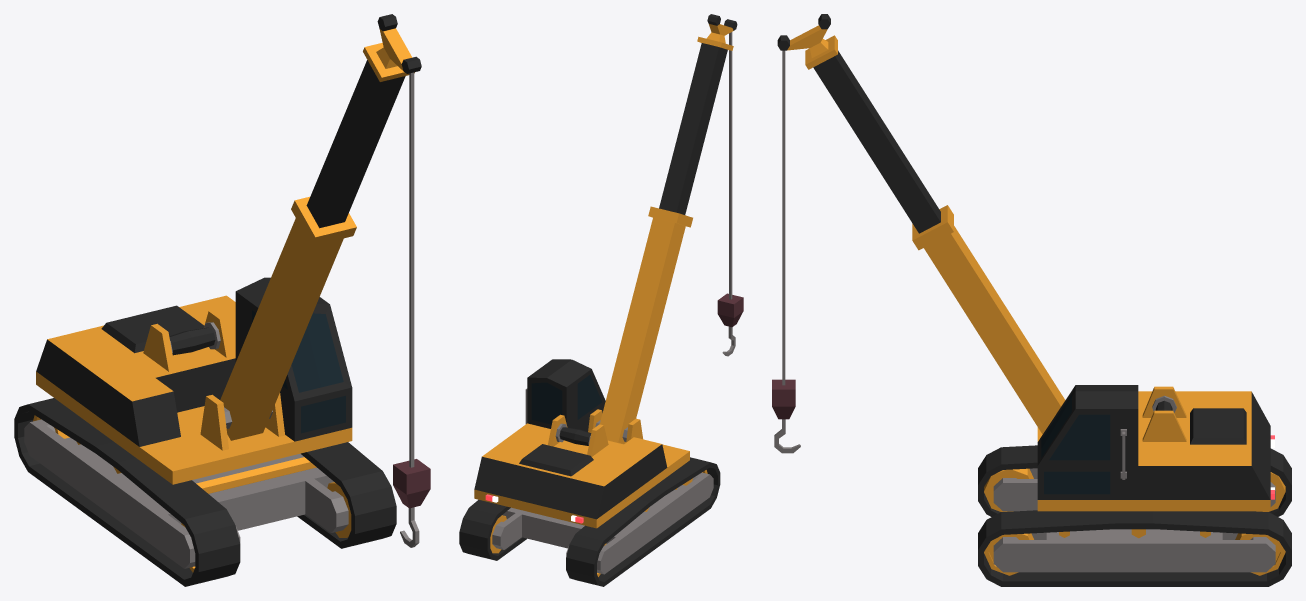
The model's file is crane-crawler.glb.
3 renders of one model, left to right at view 1: azimuth 30°, elevation 25°; view 2: azimuth 150°, elevation 25°; view 3: azimuth 270°, elevation 25°, orthographic. The views are drawn at different scales.
Visible parts, largest first — view 1: crane-crawler-base, crane-crawler-arm, crane-crawler-belt, crane-crawler-chassis, crane-crawler-hook, crane-crawler-wheel_TF; view 2: crane-crawler-base, crane-crawler-arm, crane-crawler-belt, crane-crawler-chassis, crane-crawler-hook; view 3: crane-crawler-base, crane-crawler-arm, crane-crawler-belt, crane-crawler-chassis, crane-crawler-hook, crane-crawler-wheel_F, crane-crawler-wheel_B.
Boxes of the visible parts, box(x1,y1,x2,y2) form: crane-crawler-base: box(36, 277, 352, 484); crane-crawler-arm: box(220, 14, 421, 440); crane-crawler-belt: box(14, 398, 396, 586); crane-crawler-chassis: box(24, 419, 348, 568); crane-crawler-hook: box(393, 72, 430, 547); crane-crawler-wheel_TF: box(196, 457, 316, 493); crane-crawler-base: box(474, 359, 689, 528); crane-crawler-arm: box(595, 14, 737, 444); crane-crawler-belt: box(459, 457, 720, 586); crane-crawler-chassis: box(492, 472, 713, 574); crane-crawler-hook: box(717, 32, 743, 356); crane-crawler-base: box(1037, 385, 1274, 511); crane-crawler-arm: box(777, 14, 1065, 434); crane-crawler-belt: box(978, 445, 1291, 586); crane-crawler-chassis: box(993, 468, 1275, 572); crane-crawler-hook: box(772, 50, 800, 453); crane-crawler-wheel_F: box(984, 468, 1033, 575); crane-crawler-wheel_B: box(1235, 472, 1285, 575).
Size of the model in its own units: 3.1 by 9.29 by 8.27.
Materials: 2 (1 with a texture image).
